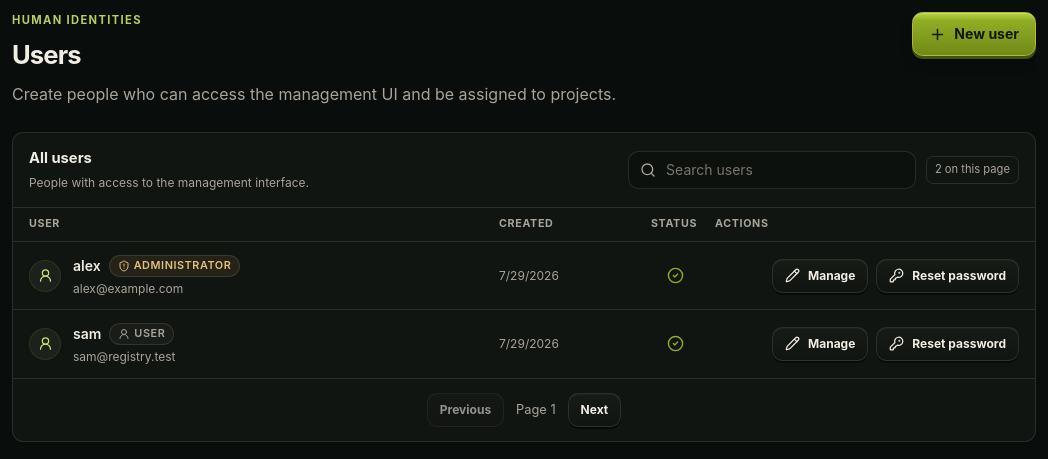
Test case: UsersPage › filters users by username or email
Step 1. Type "ALEX" into the search field named "Search users" → (772, 170), box [628, 151, 916, 189]
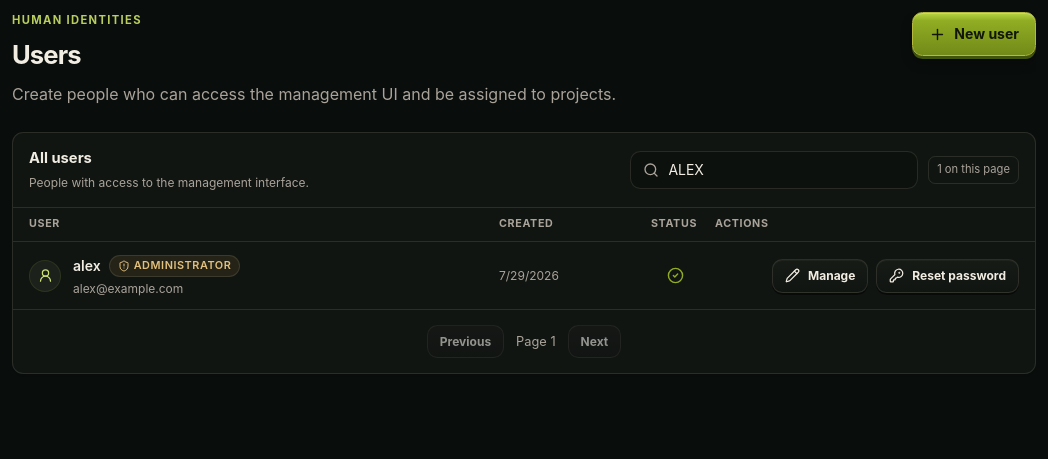
Expected: the text "alex@example.com" is shown, [73, 281, 183, 296]
Expected: the text "sam@registry.test" is gone
Expected: the text "1 on this page" is shown, [928, 156, 1019, 184]
Step 2. Replace the text in the search field named "Search users" with "registry.test" → (774, 170), box [630, 151, 918, 189]
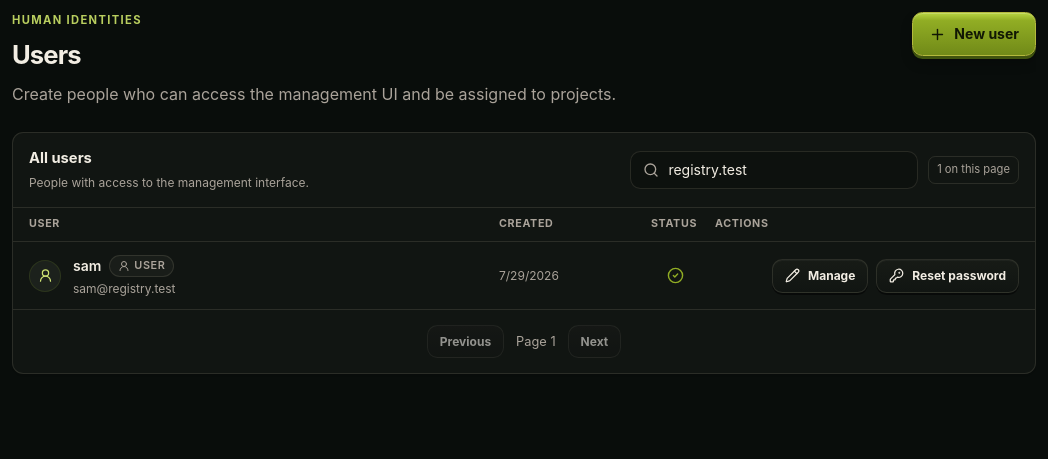
Expected: the text "sam@registry.test" is shown, [73, 281, 176, 297]
Expected: the text "alex@example.com" is gone
